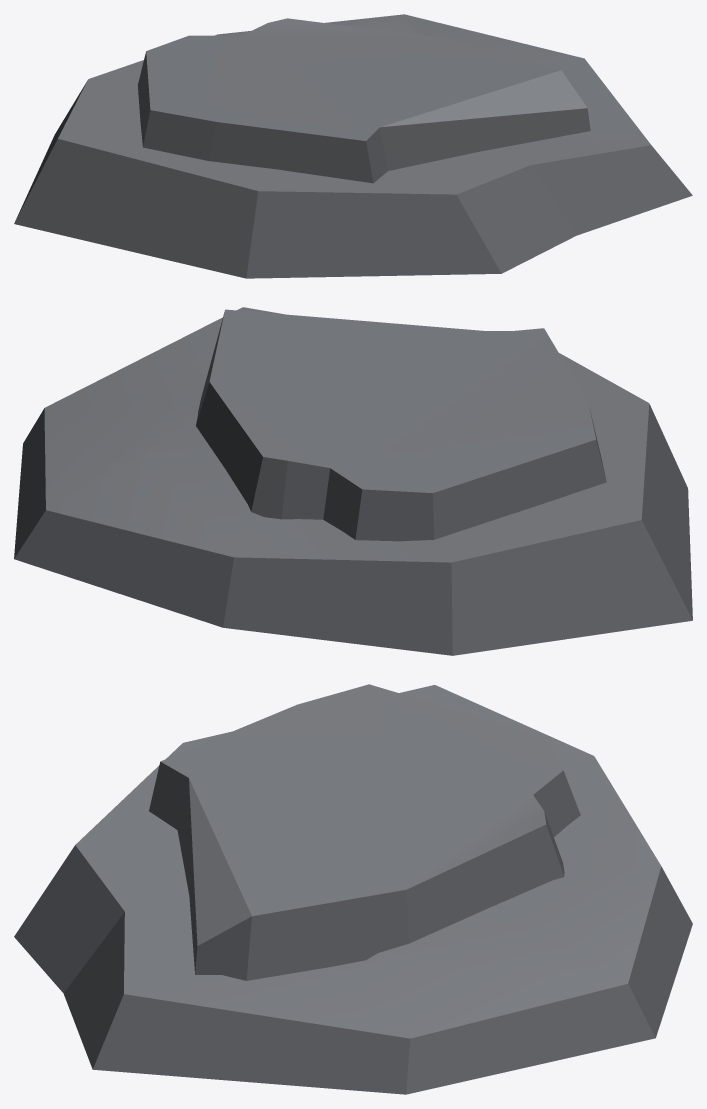
File: DE_Stone_03_Gray.fbx
3 renders of one model, top to bottom at view 1: azimuth 30°, elevation 25°; view 2: azimuth 150°, elevation 25°; view 3: azimuth 270°, elevation 25°, orthographic. The views are drawn at different scales.
Parts seen in each view (by area): view 1: DE_Stone_03_Gray; view 2: DE_Stone_03_Gray; view 3: DE_Stone_03_Gray.
Boxes of the visible parts, left/top/right/bottom form: DE_Stone_03_Gray: left=14, top=14, right=692, bottom=278; DE_Stone_03_Gray: left=14, top=307, right=692, bottom=655; DE_Stone_03_Gray: left=14, top=684, right=692, bottom=1094.
Size of the model in its own units: 46.79 by 8.85 by 38.93.
